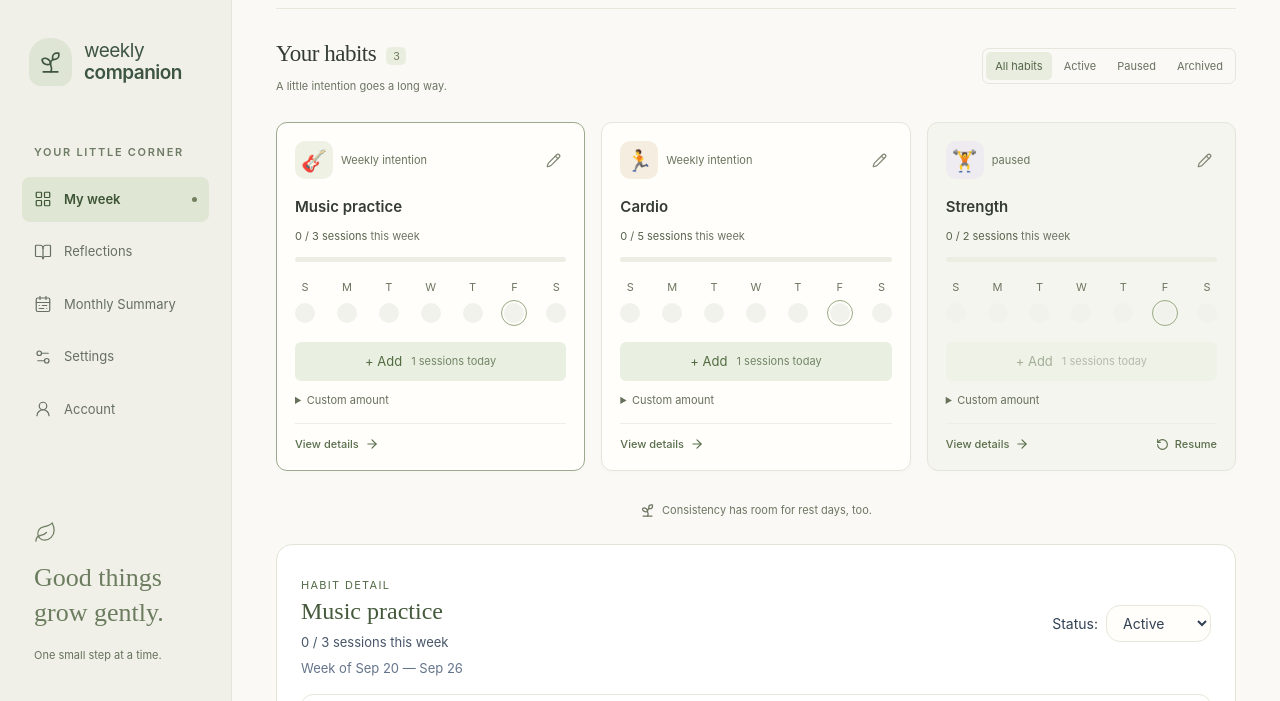
Test: App layout and navigation › supports custom amount logging and updates progress
This screenshot has width=1280, height=701.
(page scrolled)
Click the 1st heading "Custom amount" at (348, 400), box x1=307 y1=393 x2=389 y2=407
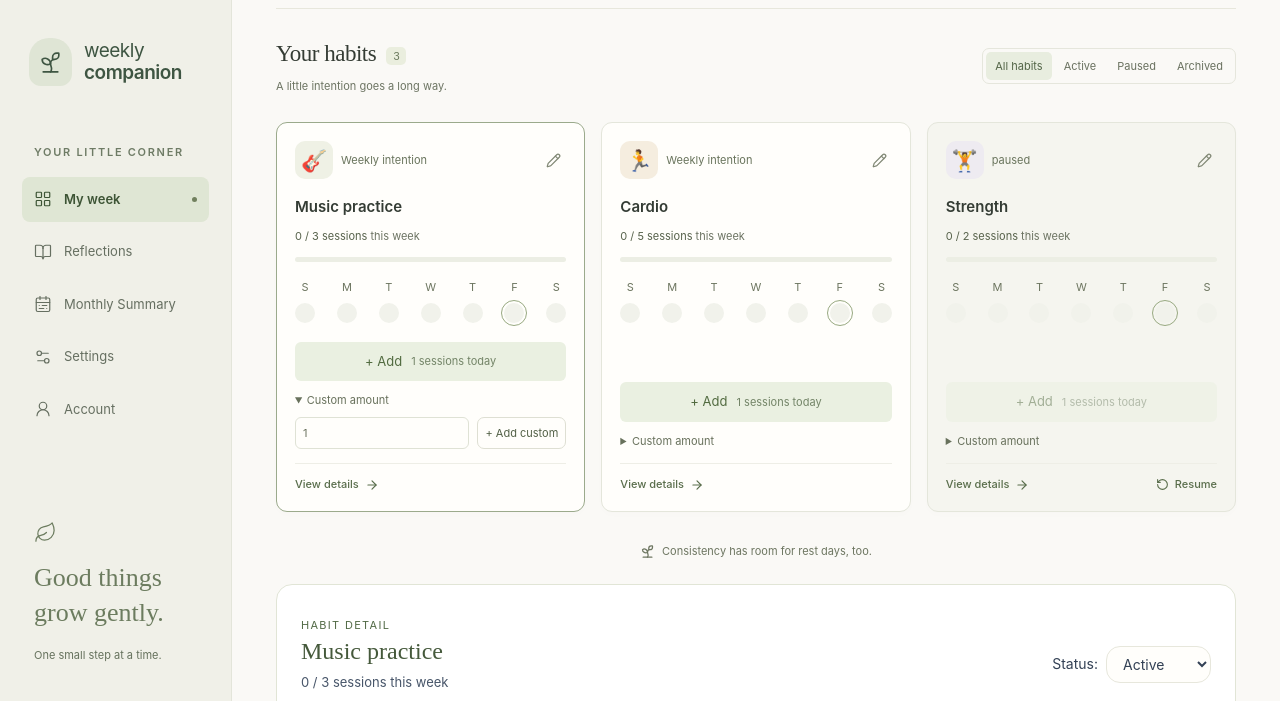
Replace the text in the number field named "custom amount" with "2" at (382, 433), box x1=295 y1=417 x2=470 y2=449
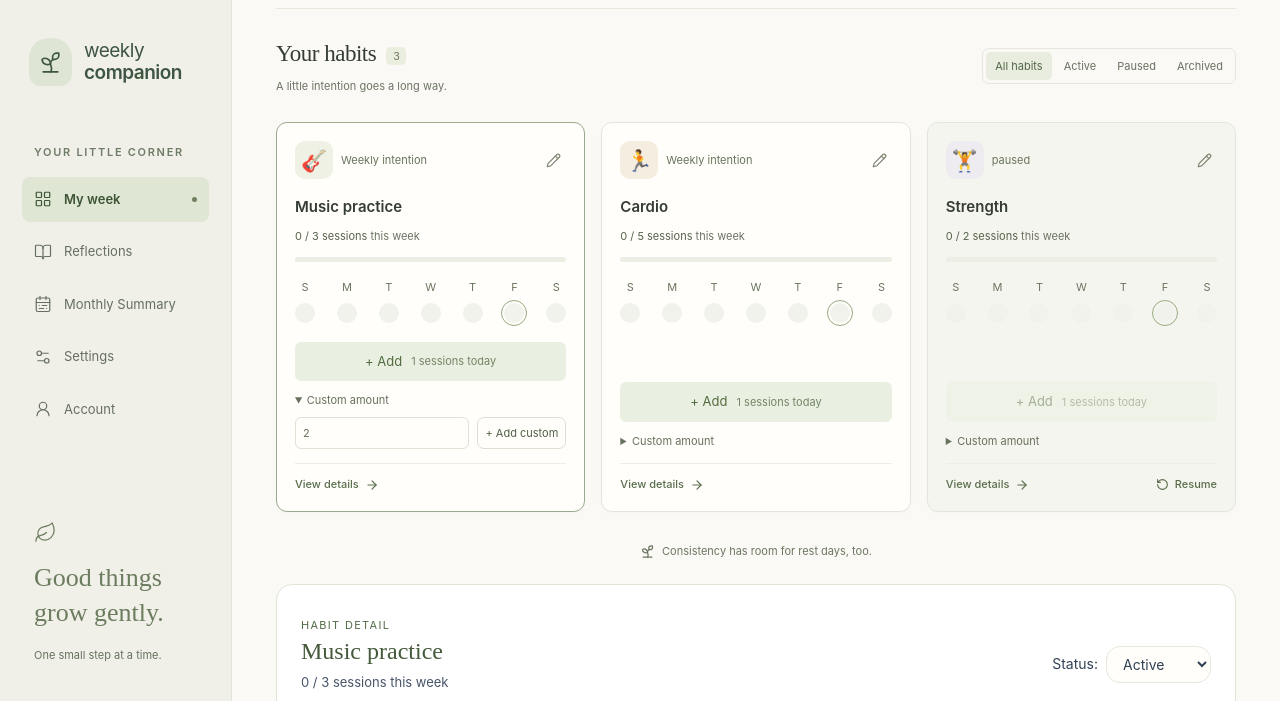
Click the button "+ Add custom" at (522, 433), box x1=478 y1=417 x2=566 y2=449
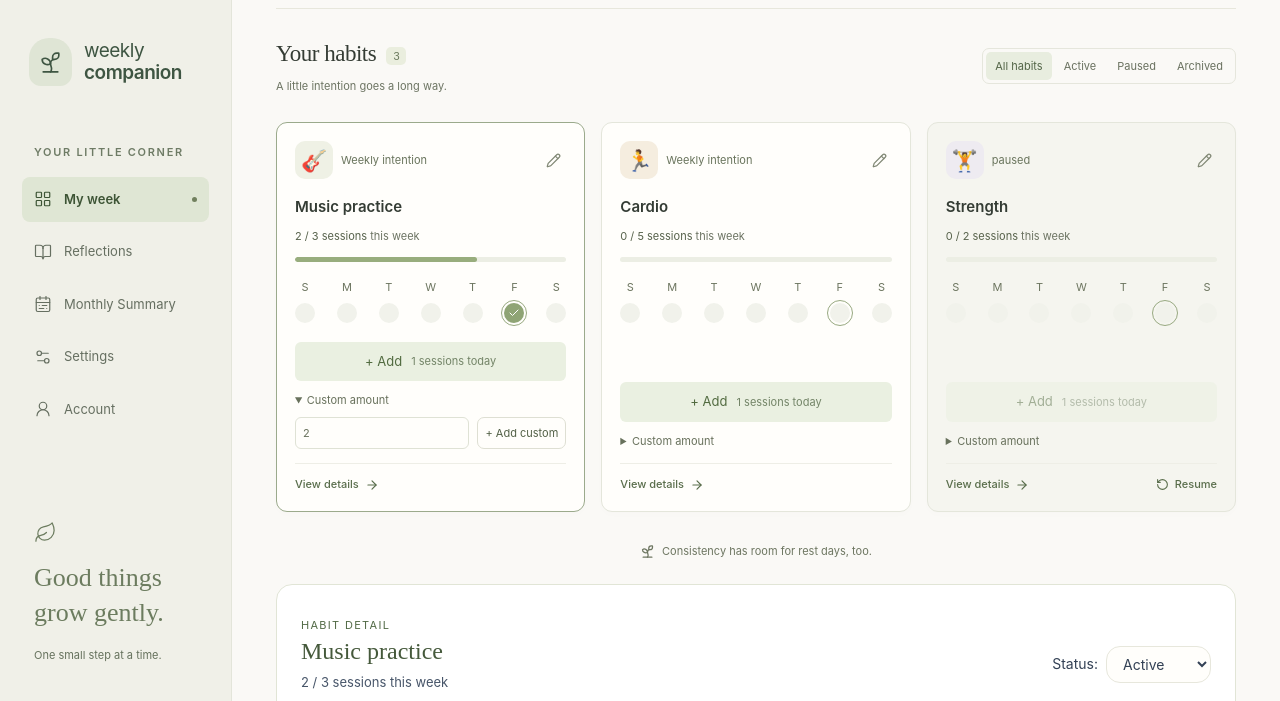
Result: the text "2 / 3 sessions this week" is shown at x1=295 y1=229 x2=420 y2=243
